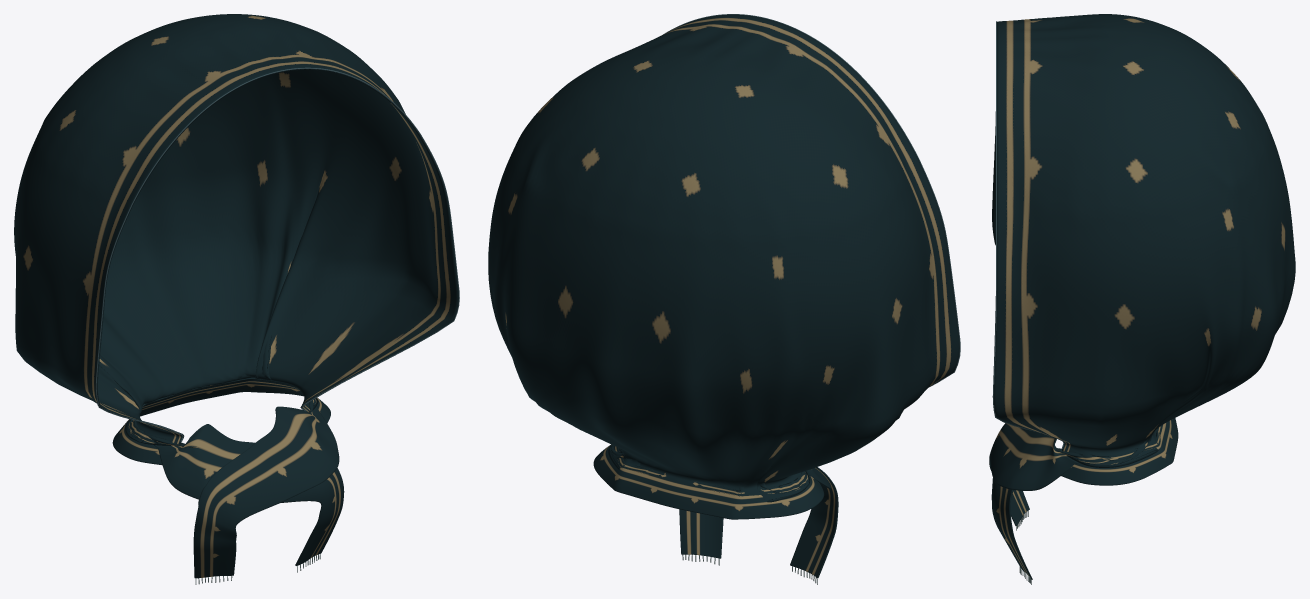
File: Feminine-triangle-pashmina237-headgear.glb
3 views of the same model, side by side, from view 1: azimuth 30°, elevation 25°; view 2: azimuth 150°, elevation 25°; view 3: azimuth 270°, elevation 25° (orthographic). The views are drawn at different scales.
Parts seen in each view (by area): view 1: 226 headgear / Headwear / continuous woven pashmina237, 226 headgear / Headwear / face edge237; view 2: 226 headgear / Headwear / continuous woven pashmina237, 226 headgear / Headwear / face edge237; view 3: 226 headgear / Headwear / continuous woven pashmina237, 226 headgear / Headwear / face edge237.
Part boxes in pixels (x1,y1,x2,y2): 226 headgear / Headwear / continuous woven pashmina237: (14,14,458,578); 226 headgear / Headwear / face edge237: (95,67,459,442); 226 headgear / Headwear / continuous woven pashmina237: (488,14,959,577); 226 headgear / Headwear / face edge237: (663,14,960,387); 226 headgear / Headwear / continuous woven pashmina237: (989,14,1295,579); 226 headgear / Headwear / face edge237: (992,21,1064,448).
Size of the model in its own units: 1.02 by 1.35 by 0.7191.
Materials: 3 (1 with a texture image).
